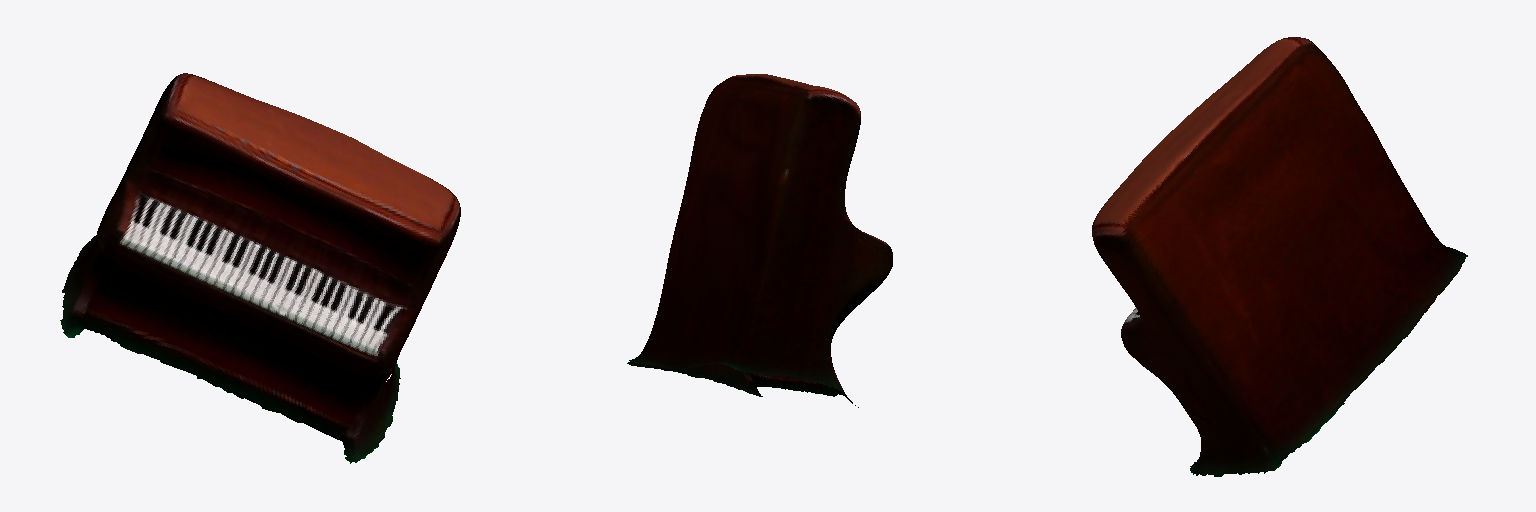
3 renders of one model, left to right at view 1: azimuth 30°, elevation 25°; view 2: azimuth 150°, elevation 25°; view 3: azimuth 270°, elevation 25°, orthographic.
Size of the model in its own units: 0.5485 by 0.6912 by 0.6305.
1 materials, 1 textured.